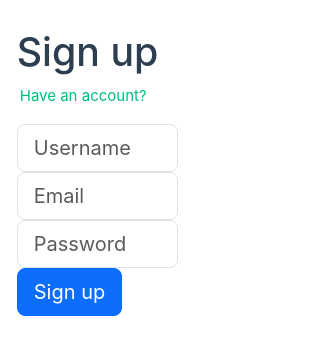
SignUpPage › error formatting › supports a plain string message (non-array)
Type "jane" into the field with placeholder "Username" at (98, 148), box [17,124,178,172]
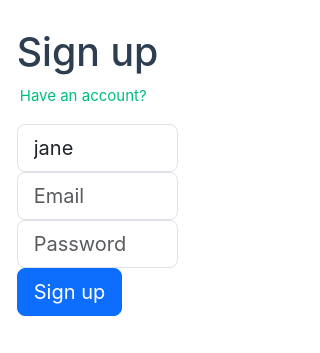
Type "jane@example.com" into the field with placeholder "Email" at (98, 196), box [17,172,178,220]
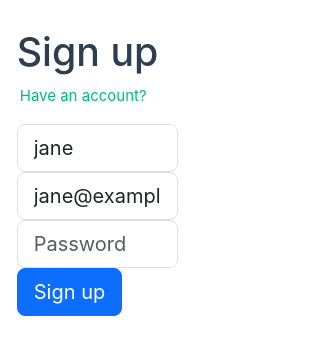
Type "secret" into the password field with placeholder "Password" at (98, 244), box [17,220,178,268]
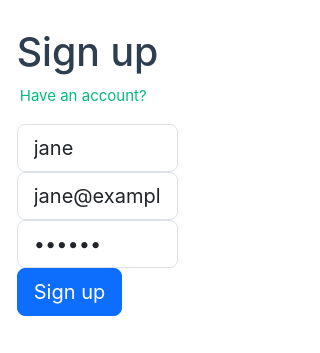
Submit the form, box [17,124,178,316]
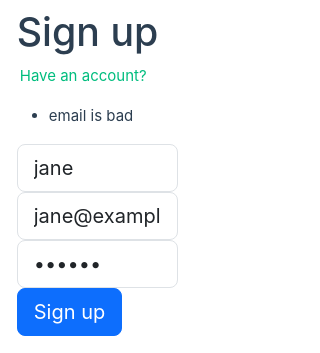
Expected: the list item "email is bad" is shown, [49,106,133,125]
